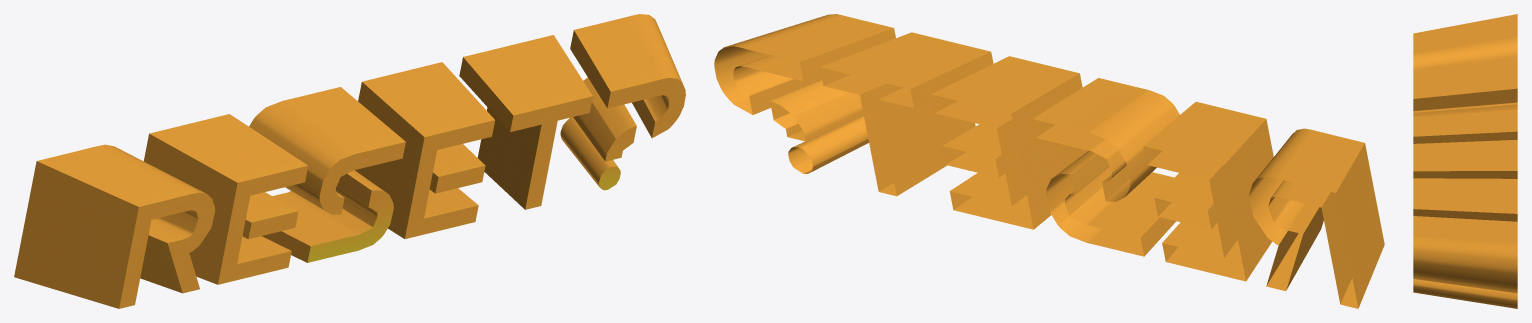
Rendered from Reset.fbx.
The picture shows the model from 3 angles, left to right: view 1: azimuth 30°, elevation 25°; view 2: azimuth 150°, elevation 25°; view 3: azimuth 270°, elevation 25°; orthographic projection. The views are drawn at different scales.
Parts seen in each view (by area): view 1: polySurface1, polySurface10, polySurface3, polySurface8, polySurface11, polySurface4; view 2: polySurface10, polySurface8, polySurface3, polySurface1, polySurface4, polySurface11; view 3: polySurface4, polySurface3, polySurface1, polySurface11, polySurface8, polySurface10.
Part boxes in pixels (x1=…): polySurface1: x1=14, y1=144, x2=215, y2=308; polySurface10: x1=249, y1=87, x2=405, y2=262; polySurface3: x1=144, y1=114, x2=308, y2=284; polySurface8: x1=355, y1=62, x2=495, y2=238; polySurface11: x1=459, y1=35, x2=592, y2=209; polySurface4: x1=560, y1=14, x2=685, y2=190; polySurface10: x1=1032, y1=78, x2=1179, y2=256; polySurface8: x1=931, y1=56, x2=1087, y2=229; polySurface3: x1=1143, y1=101, x2=1273, y2=281; polySurface1: x1=1249, y1=128, x2=1384, y2=308; polySurface4: x1=714, y1=14, x2=895, y2=173; polySurface11: x1=820, y1=32, x2=993, y2=196; polySurface4: x1=1413, y1=216, x2=1517, y2=308; polySurface3: x1=1413, y1=57, x2=1517, y2=112; polySurface1: x1=1413, y1=14, x2=1517, y2=71; polySurface11: x1=1413, y1=178, x2=1517, y2=221; polySurface8: x1=1413, y1=139, x2=1517, y2=178; polySurface10: x1=1413, y1=104, x2=1517, y2=143.
Size of the model in its own units: 11.81 by 1.94 by 2.08.
